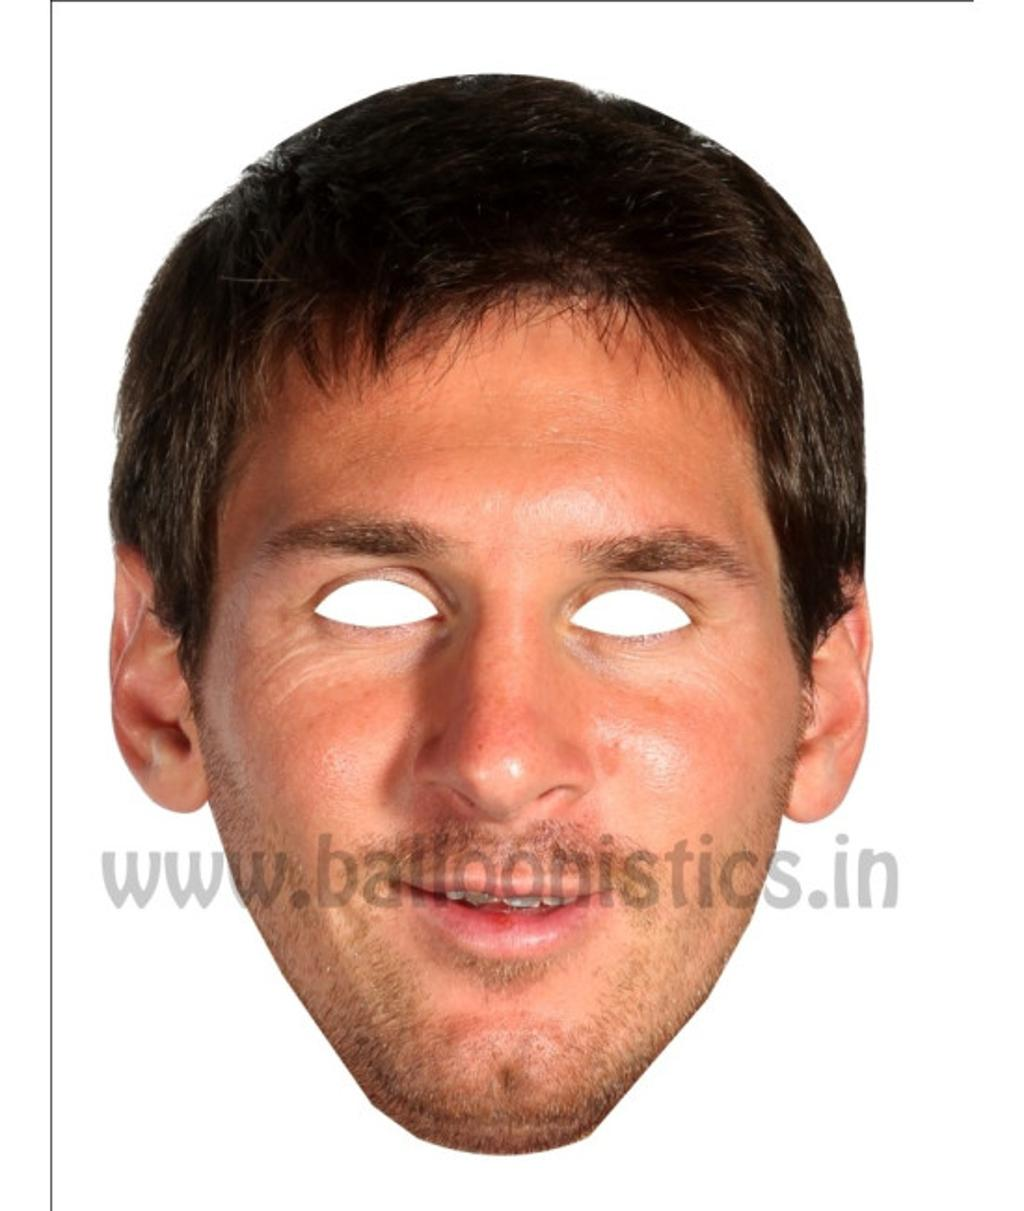face: (199, 253, 804, 1154)
